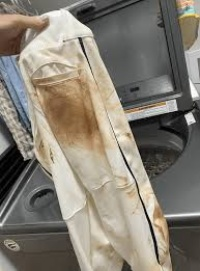earth: (53, 94, 94, 134), (153, 207, 161, 218)
